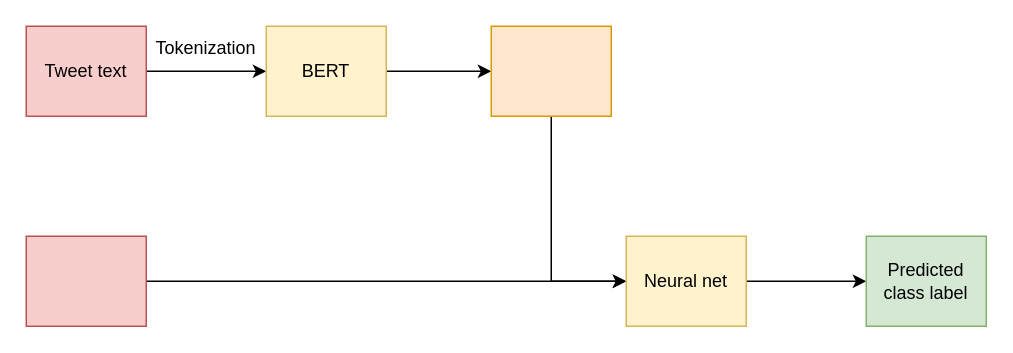
Some shapes in this 1013 by 353 pixel diagram are drawn without their labels. Here are the shapes that lost their labels. From the top down, the centre of each, then its label:
At [550,70]: "BERT outputs".
At [85,280]: "9 features".
